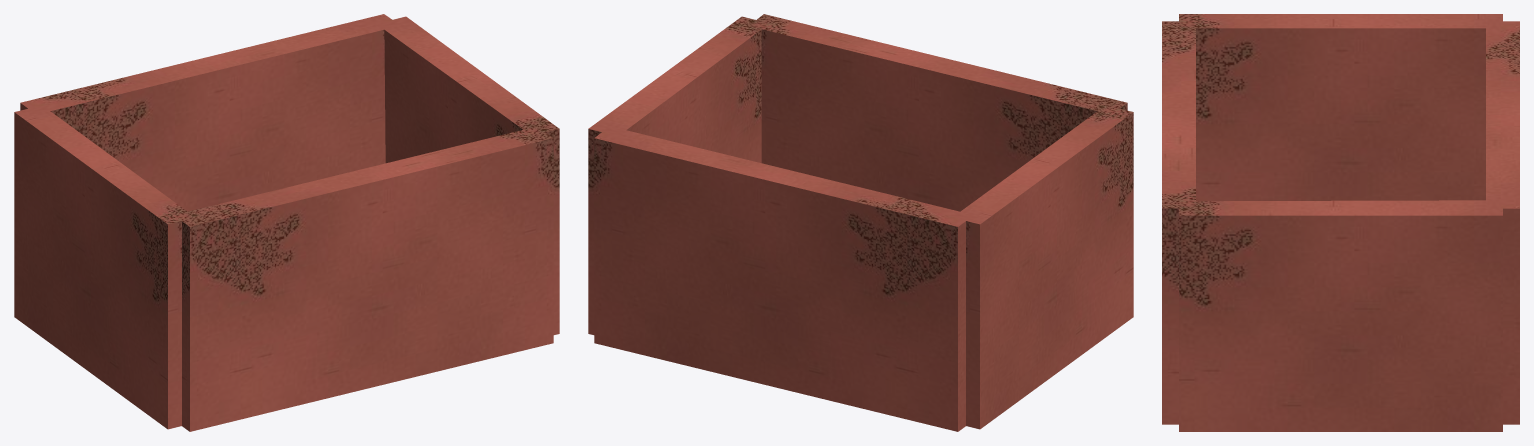
Rendered from crate2_v2.glb.
3 renders of one model, left to right at view 1: azimuth 30°, elevation 25°; view 2: azimuth 150°, elevation 25°; view 3: azimuth 270°, elevation 25°, orthographic. The views are drawn at different scales.
Visible parts, largest first — view 1: Variant_crate2_2; view 2: Variant_crate2_2; view 3: Variant_crate2_2.
Part boxes in pixels (x1=…): Variant_crate2_2: x1=14, y1=14, x2=559, y2=431; Variant_crate2_2: x1=588, y1=14, x2=1133, y2=431; Variant_crate2_2: x1=1162, y1=14, x2=1519, y2=431.
Bounding box in the file's own units: 0.56 × 0.28 × 0.42.
1 material, 1 textured.
